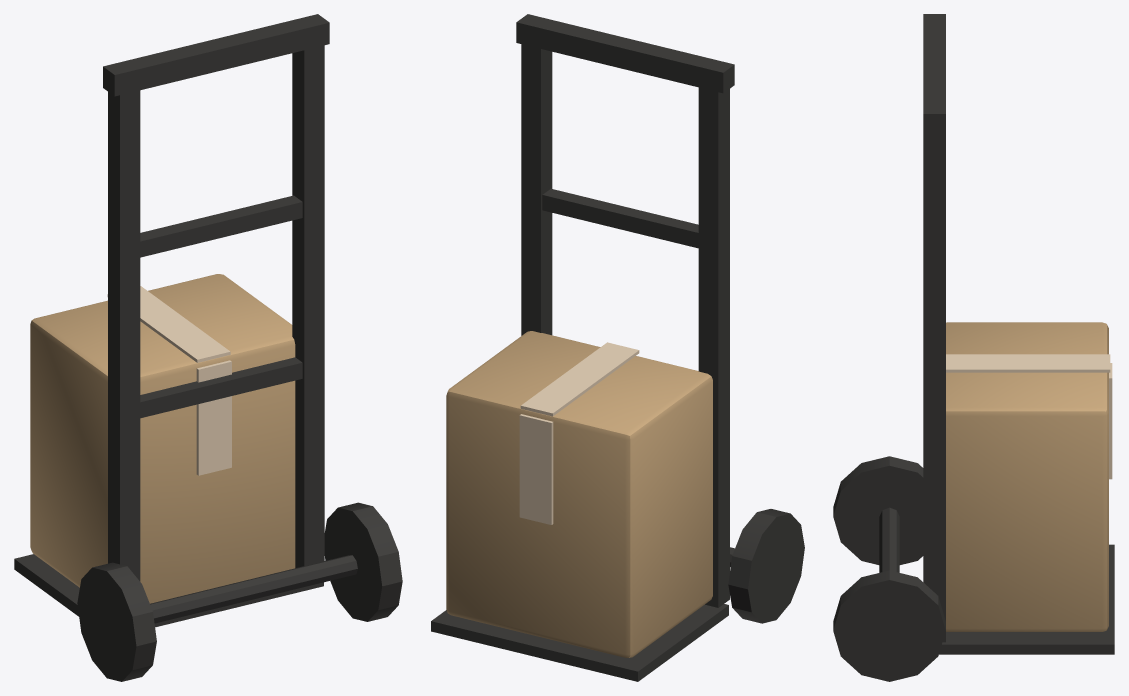
File: trolley.glb
3 renders of one model, left to right at view 1: azimuth 30°, elevation 25°; view 2: azimuth 150°, elevation 25°; view 3: azimuth 270°, elevation 25°, orthographic. The views are drawn at different scales.
Parts seen in each view (by area): view 1: Trolley_Box, Trolley_Post_R, Trolley_Post_L, Trolley_Handle_Top, Trolley_Wheel_L, Trolley_Wheel_R, Trolley_Axle, Trolley_Brace_Mid1, Trolley_Brace_Mid2, Trolley_Box_Tape_SideB, Trolley_Box_Tape_Top, Trolley_NosePlate; view 2: Trolley_Box, Trolley_Post_L, Trolley_Post_R, Trolley_Handle_Top, Trolley_NosePlate, Trolley_Wheel_L, Trolley_Brace_Mid1, Trolley_Box_Tape_SideF, Trolley_Box_Tape_Top; view 3: Trolley_Box, Trolley_Post_R, Trolley_Wheel_R, Trolley_Wheel_L, Trolley_NosePlate, Trolley_Box_Tape_Top, Trolley_Handle_Top, Trolley_Axle, Trolley_Box_Tape_SideF.
Part boxes in pixels (x1,y1,x2,y2): Trolley_Box: (30, 274, 295, 603); Trolley_Post_R: (292, 34, 324, 568); Trolley_Post_L: (108, 80, 140, 581); Trolley_Handle_Top: (103, 14, 329, 96); Trolley_Wheel_L: (77, 562, 156, 681); Trolley_Wheel_R: (324, 502, 402, 621); Trolley_Axle: (150, 555, 357, 623); Trolley_Brace_Mid1: (140, 195, 302, 257); Trolley_Brace_Mid2: (140, 357, 302, 418); Trolley_Box_Tape_SideB: (196, 360, 231, 475); Trolley_Box_Tape_Top: (107, 286, 230, 362); Trolley_NosePlate: (14, 554, 323, 627); Trolley_Box: (446, 331, 712, 657); Trolley_Post_L: (698, 78, 729, 607); Trolley_Post_R: (521, 35, 552, 335); Trolley_Handle_Top: (516, 14, 734, 93); Trolley_NosePlate: (431, 604, 728, 681); Trolley_Wheel_L: (728, 509, 804, 623); Trolley_Brace_Mid1: (542, 188, 698, 248); Trolley_Box_Tape_SideF: (519, 414, 553, 524); Trolley_Box_Tape_Top: (520, 342, 639, 416); Trolley_Box: (946, 322, 1108, 631); Trolley_Post_R: (923, 134, 945, 642); Trolley_Wheel_R: (833, 570, 945, 681); Trolley_Wheel_L: (833, 456, 923, 564); Trolley_NosePlate: (939, 544, 1114, 654); Trolley_Box_Tape_Top: (946, 354, 1110, 372); Trolley_Handle_Top: (923, 14, 945, 134); Trolley_Axle: (879, 507, 899, 572); Trolley_Box_Tape_SideF: (1109, 363, 1112, 479).
Bounding box in the file's own units: 0.52 × 1.09 × 0.5.
